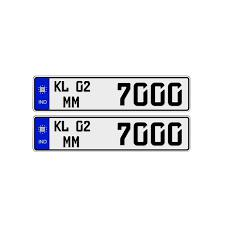0: (167, 83, 184, 107), (168, 121, 184, 146), (151, 121, 167, 146), (133, 121, 149, 146), (151, 83, 167, 107), (133, 83, 149, 107), (76, 121, 84, 133), (75, 80, 83, 92)
2: (83, 120, 91, 132), (83, 81, 91, 92)
7: (117, 121, 132, 146), (117, 82, 132, 107)
K: (53, 120, 62, 131), (53, 80, 62, 91)
L: (60, 120, 69, 132), (61, 80, 70, 92)
M: (62, 95, 72, 108), (71, 95, 80, 108), (71, 135, 80, 148), (62, 136, 70, 148)
